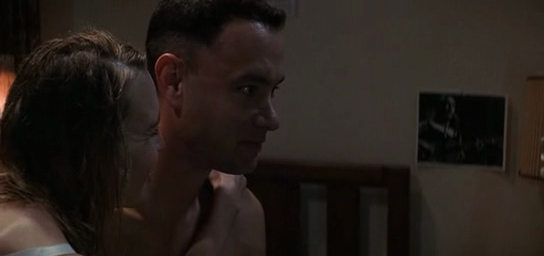cu: (1, 1, 544, 256)
face: (215, 43, 286, 176), (124, 90, 166, 209)
person: (134, 1, 286, 256), (1, 25, 166, 256)
